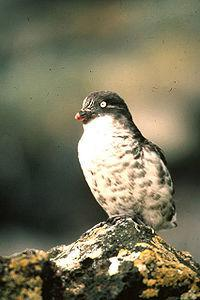006.Least_Auklet: (74, 89, 180, 236)
